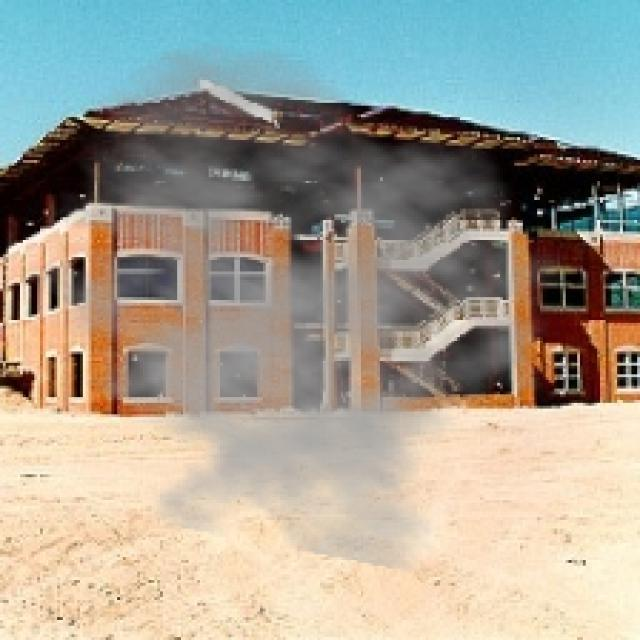Smoke: (6, 39, 568, 574)
